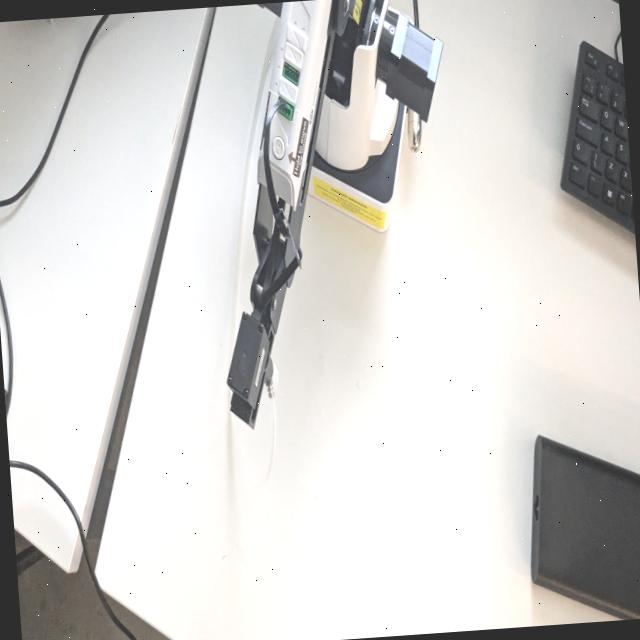Robot-end-effector-HF8z: (220, 306, 287, 434)
